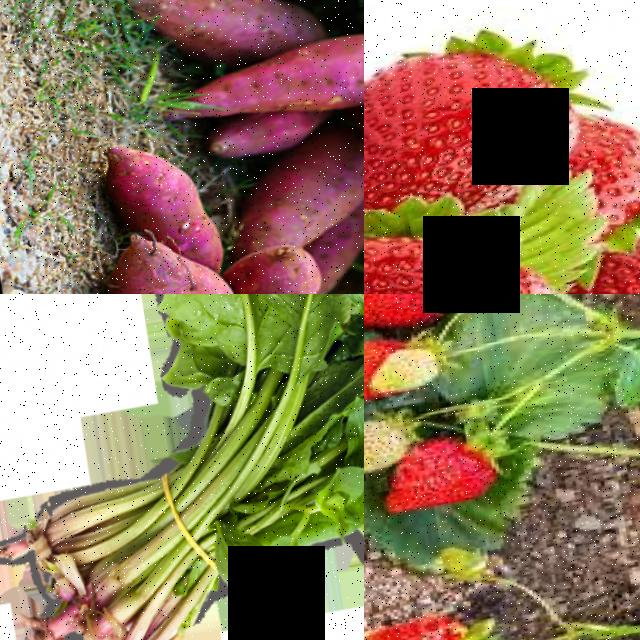spinach: (151, 294, 254, 368), (247, 294, 349, 362)
strawberry: (364, 28, 586, 199), (364, 213, 568, 294), (381, 448, 503, 518), (586, 114, 640, 246), (364, 294, 455, 340), (364, 612, 470, 640), (364, 614, 471, 640)
sweet potato: (156, 25, 364, 140), (217, 146, 364, 254), (127, 0, 330, 75), (97, 134, 210, 245), (101, 223, 233, 294), (202, 110, 325, 166), (224, 241, 324, 294)
